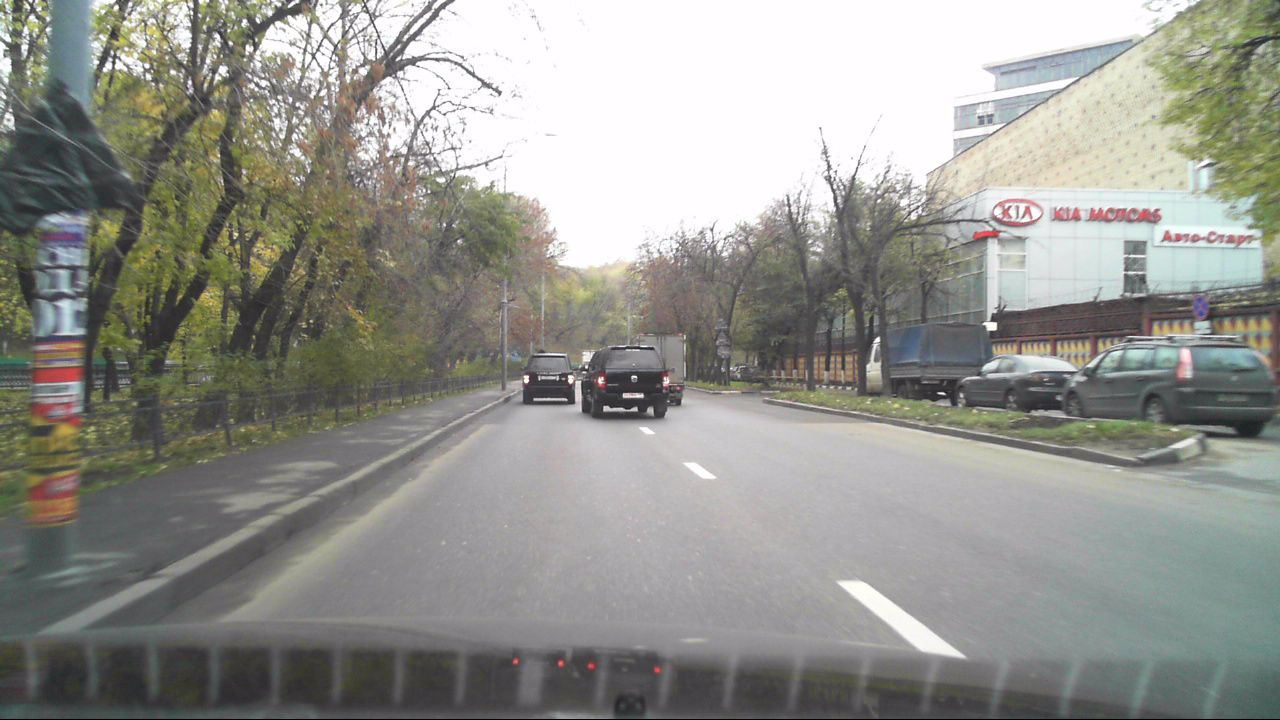No Parking: (1191, 293, 1211, 320)
